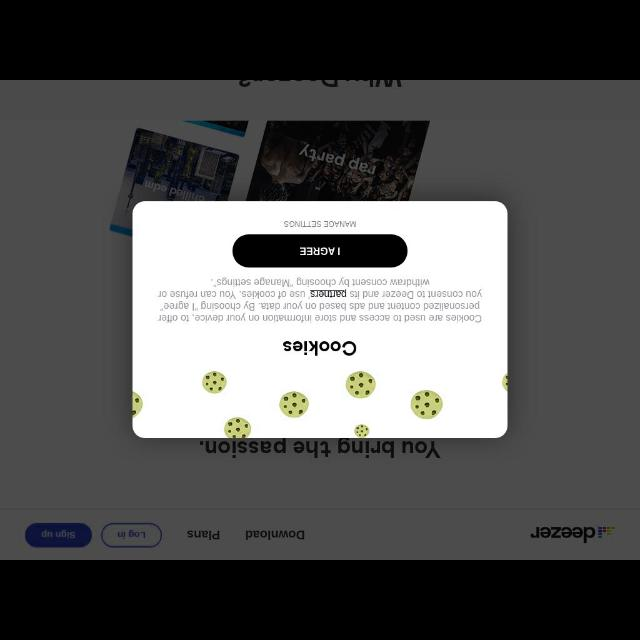iframe: (132, 201, 508, 437)
image: (107, 120, 530, 236), (133, 364, 507, 438), (530, 527, 616, 543)
text: (158, 277, 482, 321), (200, 438, 440, 458), (282, 340, 358, 356), (246, 530, 304, 540), (284, 220, 356, 228), (300, 247, 340, 256), (41, 529, 75, 539), (187, 530, 219, 540), (118, 530, 144, 540)
textbutton: (232, 235, 408, 267), (24, 523, 92, 547), (101, 523, 161, 547)
toolbar: (1, 510, 639, 558)
